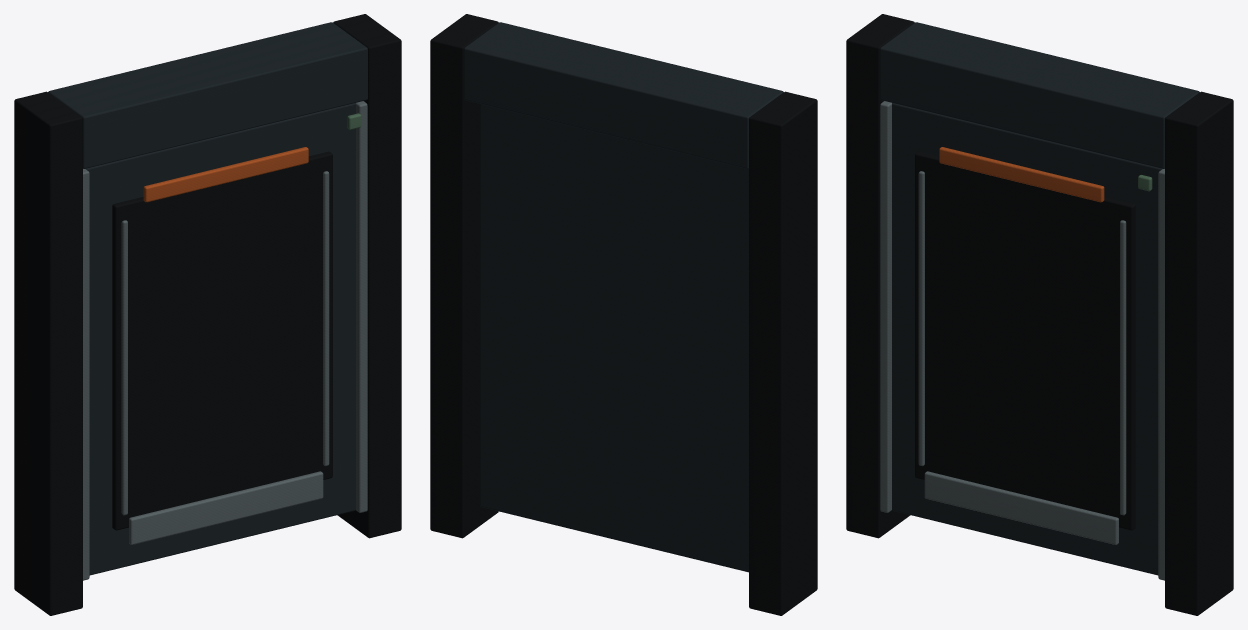
Rendered from SlidingBulkhead.fbx.
3 renders of one model, left to right at view 1: azimuth 30°, elevation 25°; view 2: azimuth 150°, elevation 25°; view 3: azimuth 330°, elevation 25°, orthographic.
Visible parts, largest first — view 1: SlidingBulkhead_Mesh; view 2: SlidingBulkhead_Mesh; view 3: SlidingBulkhead_Mesh.
Part boxes in pixels (box(x1,y1,x2,y2)): SlidingBulkhead_Mesh: box(14, 14, 401, 615); SlidingBulkhead_Mesh: box(430, 14, 817, 615); SlidingBulkhead_Mesh: box(846, 14, 1233, 615).
Size of the model in its own units: 168 by 224 by 33.25.
Materials: 5 (5 with a texture image).
